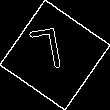L_S: (35, 27, 75, 83)
